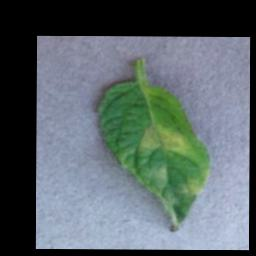Leaf_Mold: (139, 124, 188, 158), (180, 175, 205, 198)
